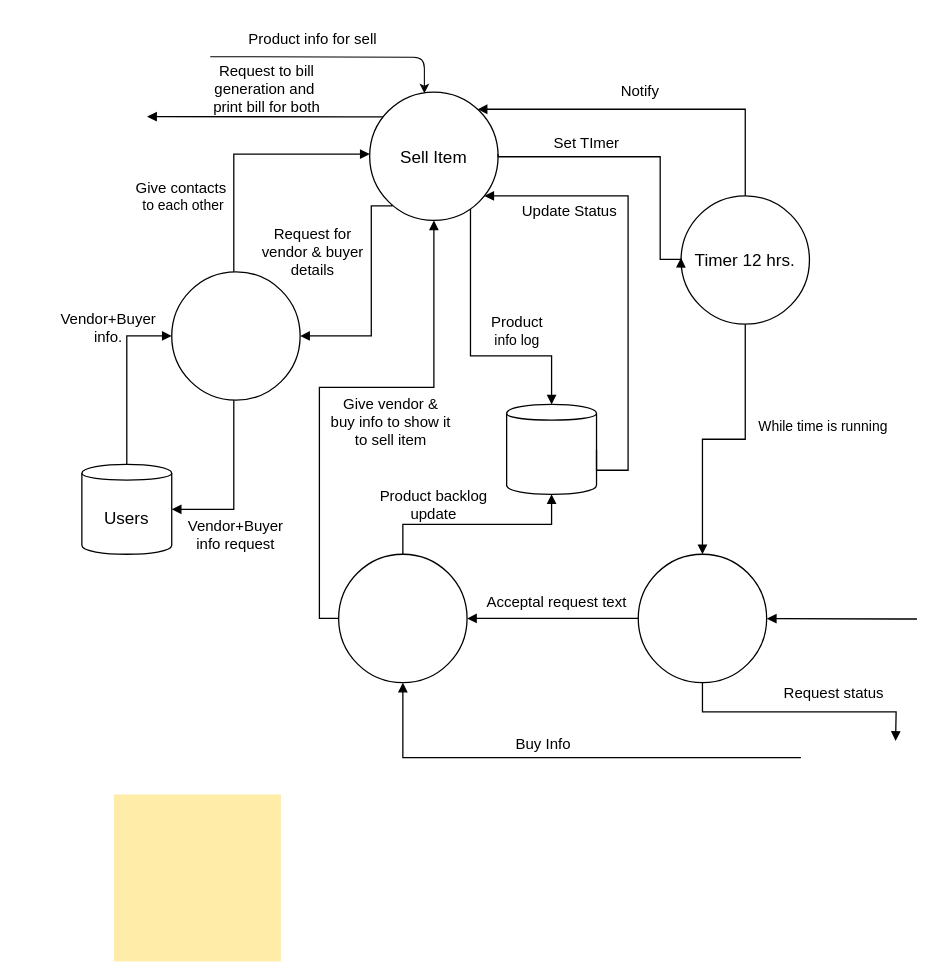
The diagram is 947 pixels wide and 980 high, and some of its shapes have lost their labels. The shapes that lost their labels are listed below. From the top down, each one's centre as x and y in pixels, then its label:
At [235,335]: "Make deal".
At [551,448]: "Products".
At [402,618]: "Waiting for buy info.".
At [702,618]: "Waiting for buy request".
At [849,599]: "Buying request from vendor".
At [196,877]: "IPFV Level-2-DFD".
